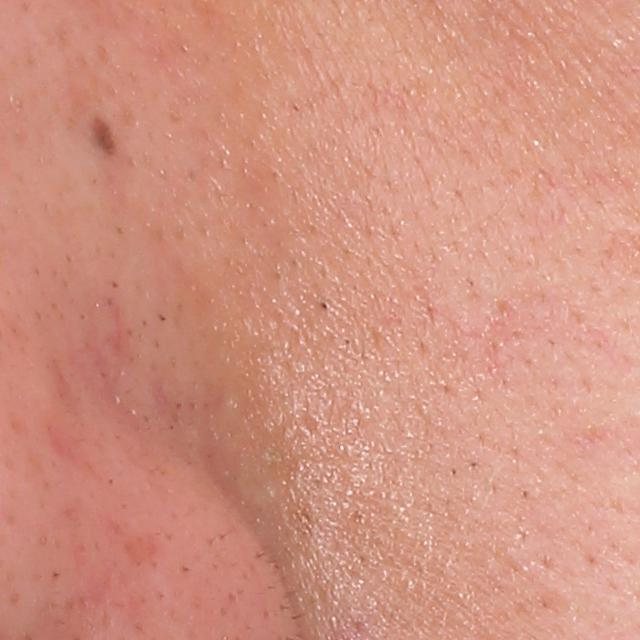nevus: (84, 110, 122, 172)
